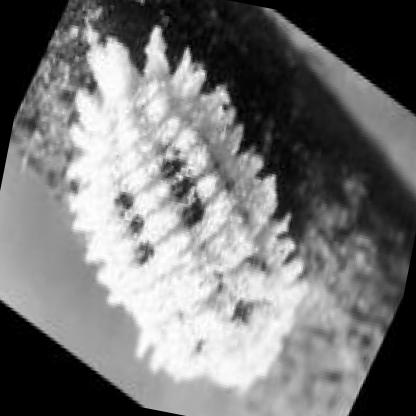mealy bug: (66, 22, 306, 392)
